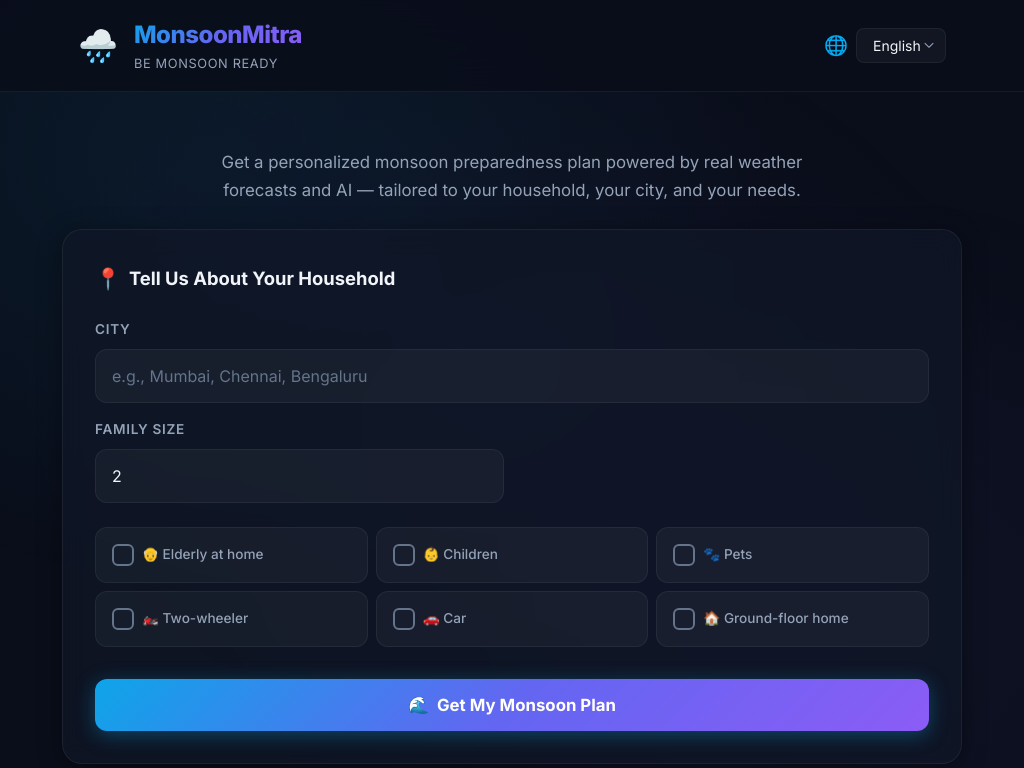
Scenario: App — API failure handling › renders friendly error when AI service fails
Type "Mumbai" into the field named "enter your city name" at (512, 376), box [95,349,929,403]
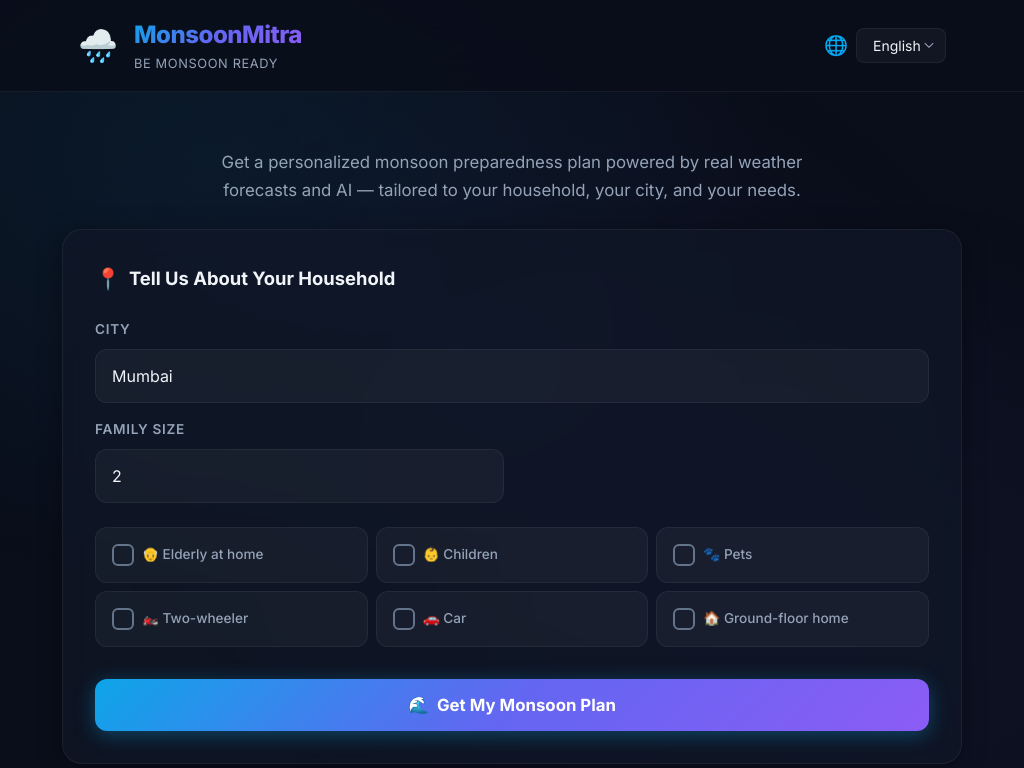
Click the button "🌊 Get My Monsoon Plan" at (512, 705), box [95,679,929,731]
(page scrolled)
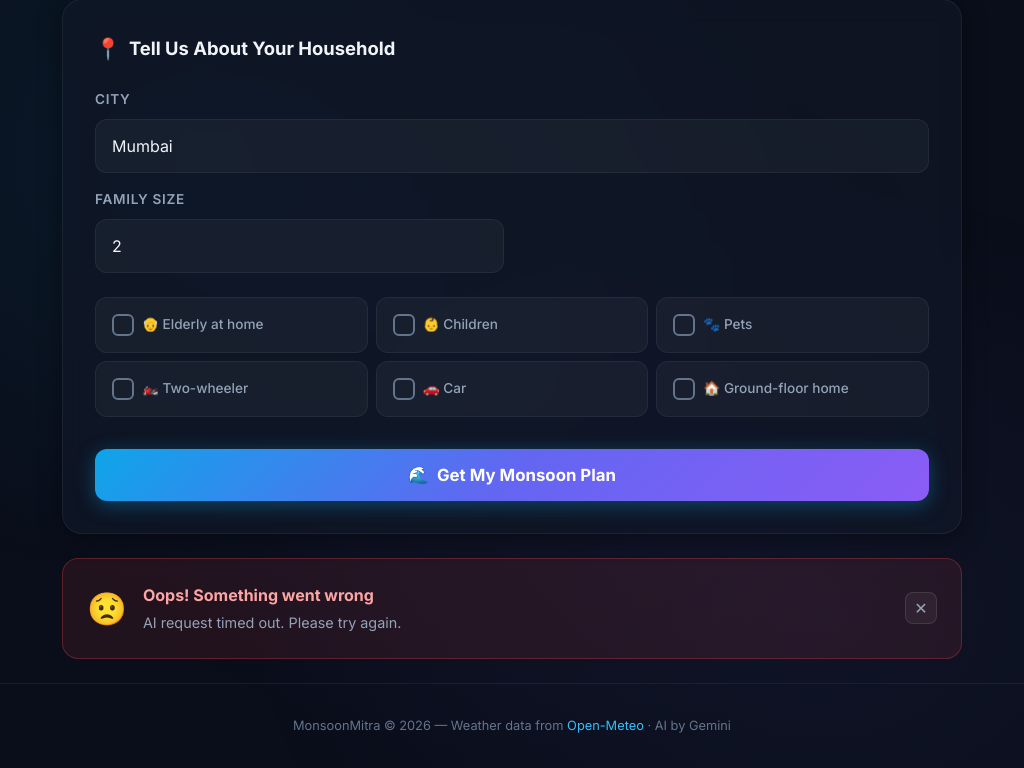
Expected: the text "AI request timed out. Please try again." is shown, [143,614,401,631]
